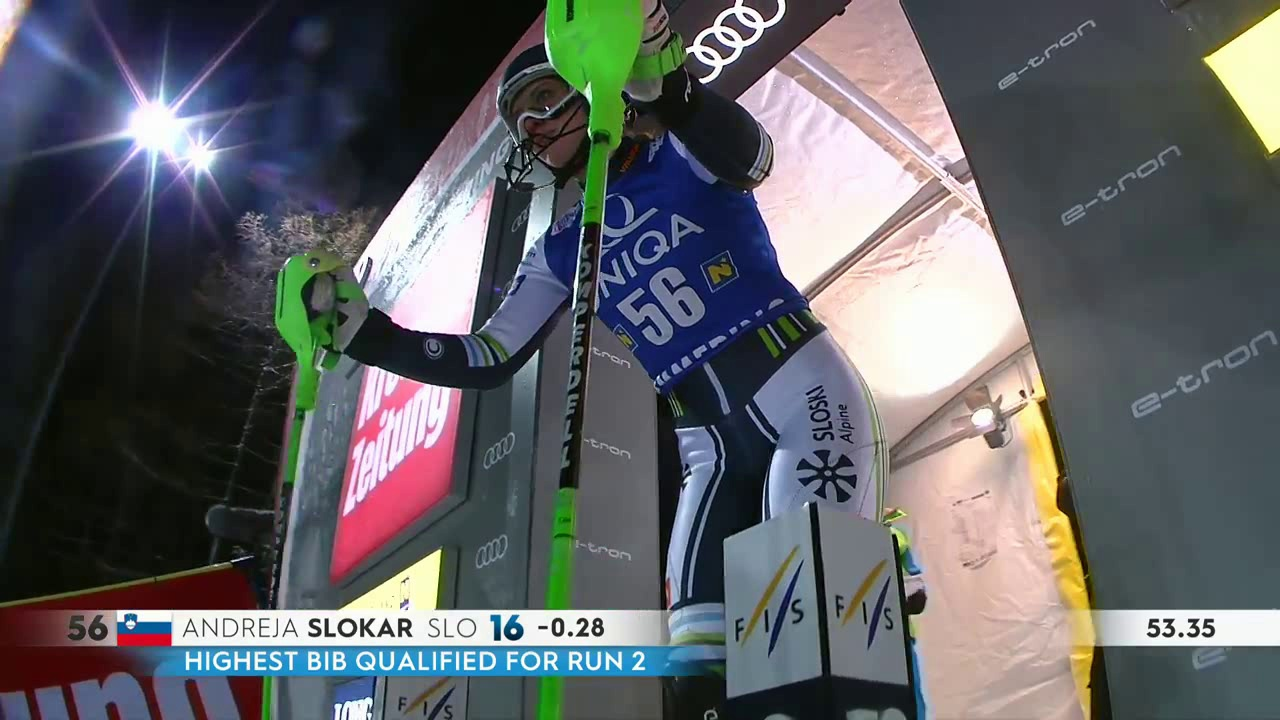audi: (684, 1, 782, 86), (470, 530, 517, 577), (479, 429, 524, 475)
uniqa: (538, 188, 712, 294)
